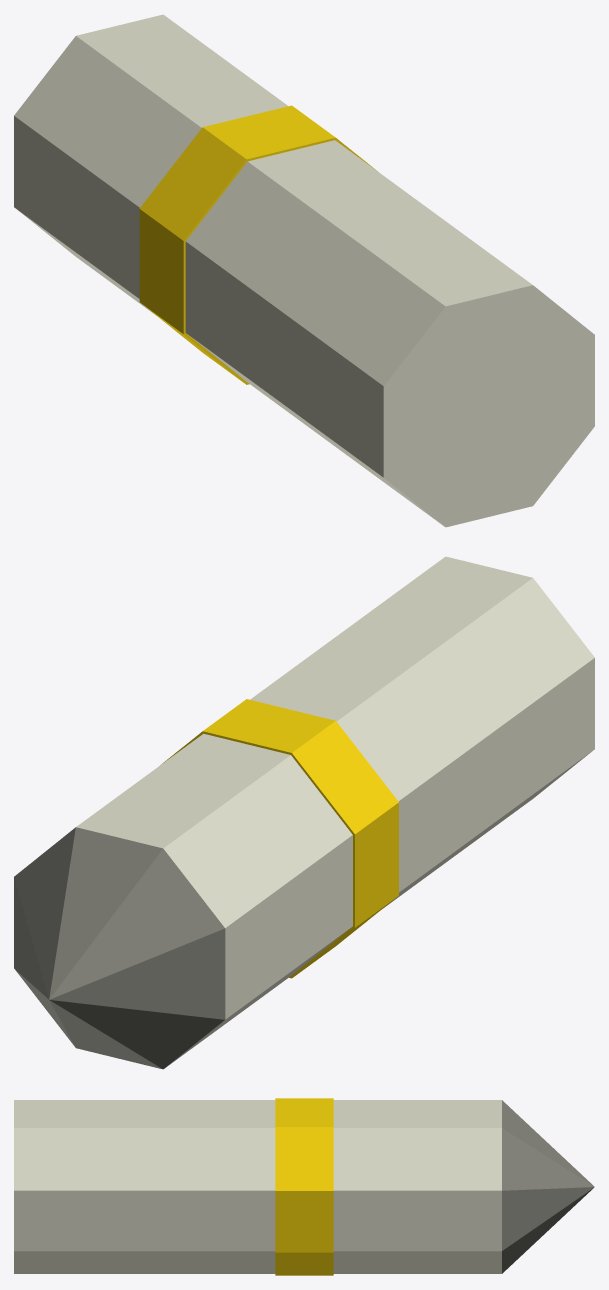
Rendered from ce_ammo_chcells_reg_a.obj.
3 renders of one model, top to bottom at view 1: azimuth 30°, elevation 25°; view 2: azimuth 150°, elevation 25°; view 3: azimuth 270°, elevation 25°, orthographic. The views are drawn at different scales.
Parts seen in each view (by area): view 1: ce_ammo_chcells_reg_a_0, ce_ammo_chcells_reg_a_2, ce_ammo_chcells_reg_a_1; view 2: ce_ammo_chcells_reg_a_0, ce_ammo_chcells_reg_a_2, ce_ammo_chcells_reg_a_3, ce_ammo_chcells_reg_a_1; view 3: ce_ammo_chcells_reg_a_0, ce_ammo_chcells_reg_a_2, ce_ammo_chcells_reg_a_1, ce_ammo_chcells_reg_a_3.
Part boxes in pixels (x1,y1,x2,y2): ce_ammo_chcells_reg_a_0: [185, 140, 594, 527]; ce_ammo_chcells_reg_a_2: [14, 14, 288, 315]; ce_ammo_chcells_reg_a_1: [139, 105, 376, 384]; ce_ammo_chcells_reg_a_0: [250, 556, 594, 908]; ce_ammo_chcells_reg_a_2: [76, 733, 352, 1066]; ce_ammo_chcells_reg_a_3: [14, 827, 225, 1069]; ce_ammo_chcells_reg_a_1: [162, 699, 398, 978]; ce_ammo_chcells_reg_a_0: [14, 1100, 275, 1273]; ce_ammo_chcells_reg_a_2: [333, 1100, 501, 1273]; ce_ammo_chcells_reg_a_1: [275, 1098, 333, 1275]; ce_ammo_chcells_reg_a_3: [502, 1100, 594, 1273].
Bounding box in the file's own units: 0.1696 × 0.1696 × 0.6.
